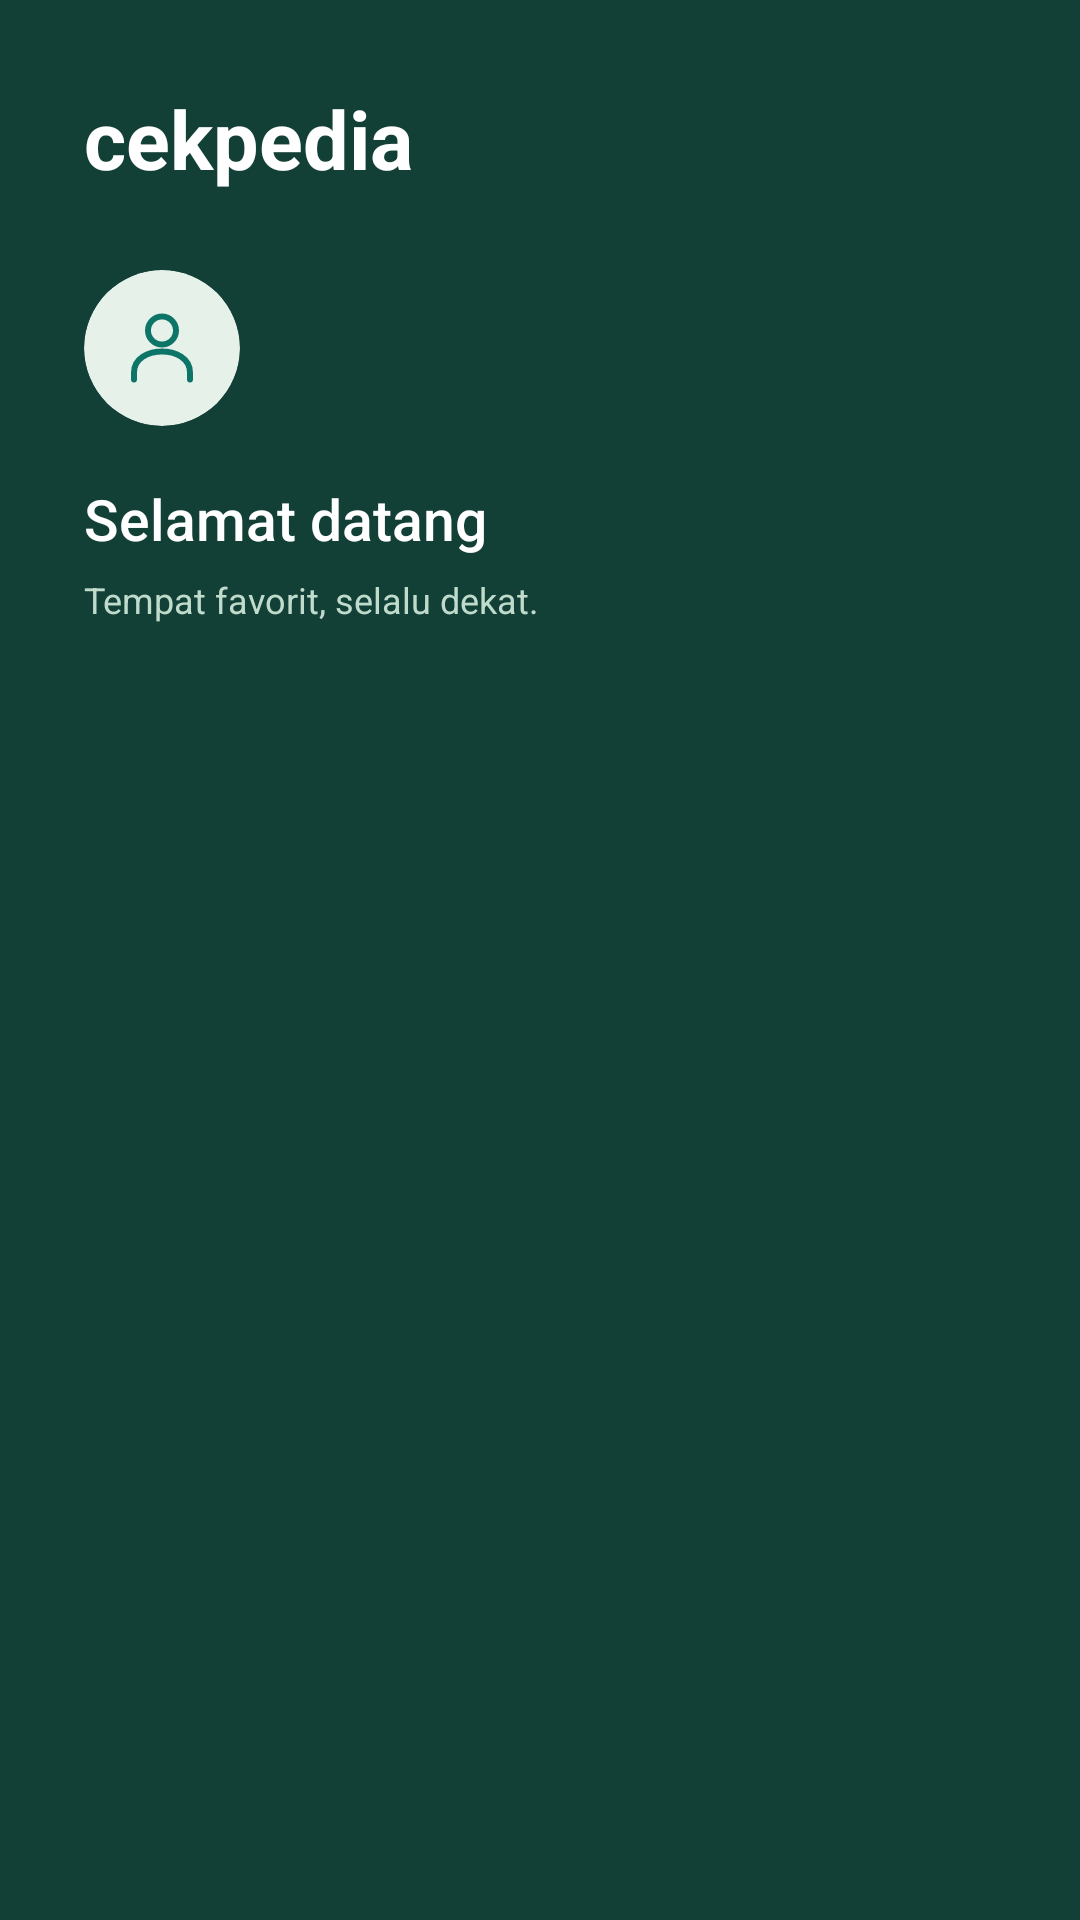

Where icons sit on this 1080px x 1920px app screen, as [x1,y1,x2,y2]:
Foto profil: [84,270,240,426]
